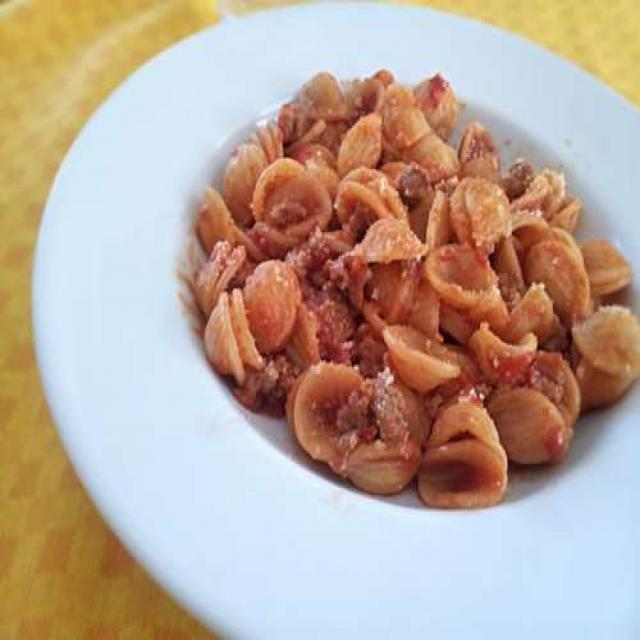Pasta al ragu: (212, 60, 638, 531)
